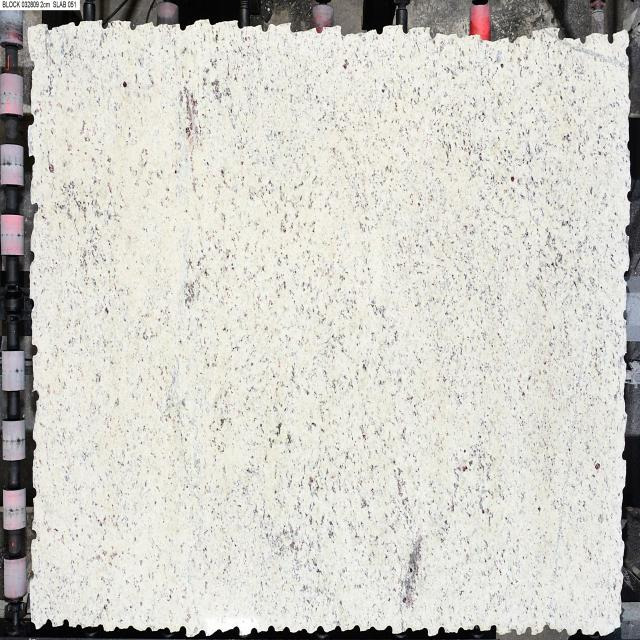chapa: (27, 17, 632, 636)
veio: (338, 22, 350, 39), (373, 22, 386, 37), (288, 20, 299, 37), (29, 200, 39, 218), (428, 23, 438, 40), (29, 342, 39, 358), (42, 618, 54, 631), (625, 184, 633, 203), (576, 34, 588, 46), (128, 20, 139, 33), (400, 21, 410, 35), (235, 18, 245, 32), (607, 29, 615, 46), (488, 622, 499, 634), (259, 22, 270, 34), (27, 153, 37, 166), (231, 625, 241, 638), (542, 621, 552, 634), (622, 268, 630, 284), (557, 26, 565, 42), (383, 624, 394, 635), (26, 111, 34, 126), (32, 388, 40, 403), (472, 623, 482, 635), (622, 307, 630, 322), (506, 33, 516, 45), (314, 23, 324, 35), (624, 221, 631, 238), (267, 622, 276, 635), (30, 528, 38, 542), (438, 623, 446, 637), (62, 618, 71, 630), (524, 624, 533, 636), (575, 626, 584, 638), (180, 624, 187, 639), (620, 447, 627, 462), (100, 20, 110, 30), (509, 626, 518, 636)
